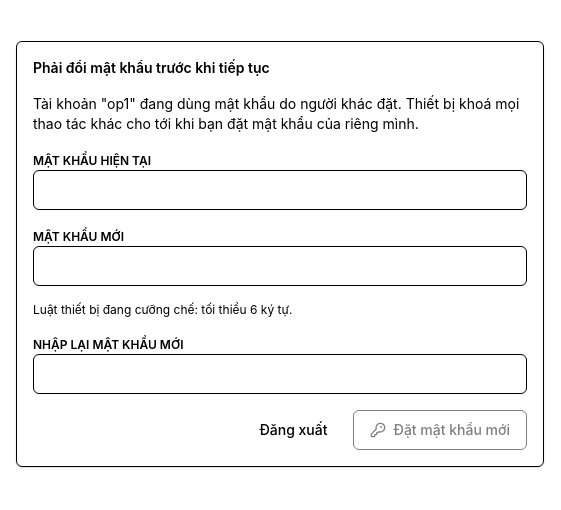
it: T57-3.17 — màn hình buộc đổi mật khẩu › lỗi từ backend hiện nguyên văn thay vì nuốt đi
In the password field labelled "Mật khẩu hiện tại": (280, 190) [33, 170, 527, 210], type "sai-mat-khau"
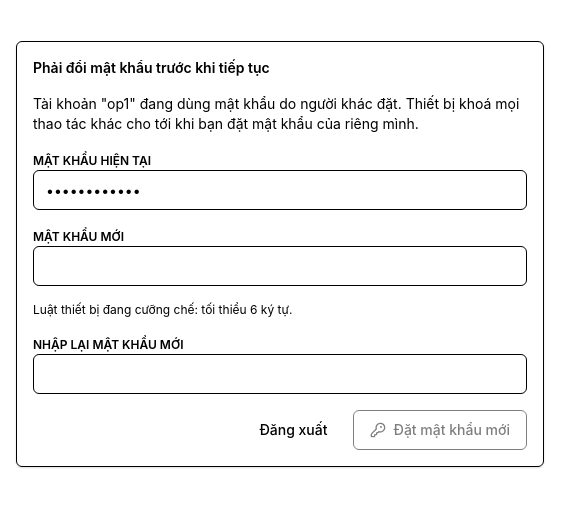
In the password field labelled "Mật khẩu mới": (280, 266) [33, 246, 527, 286], type "matkhau-moi-1"
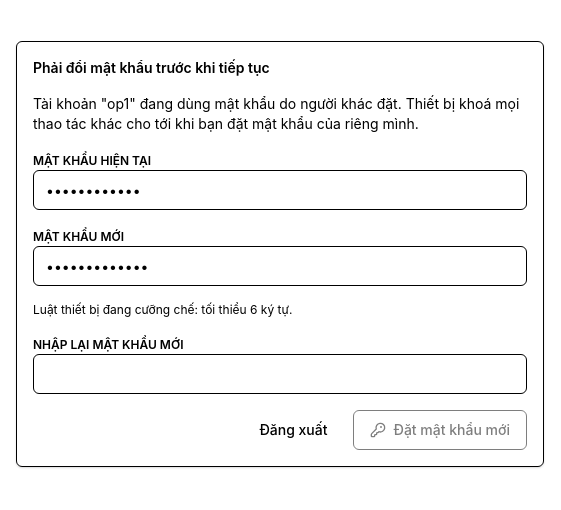
In the password field labelled "Nhập lại mật khẩu mới": (280, 374) [33, 354, 527, 394], type "matkhau-moi-1"
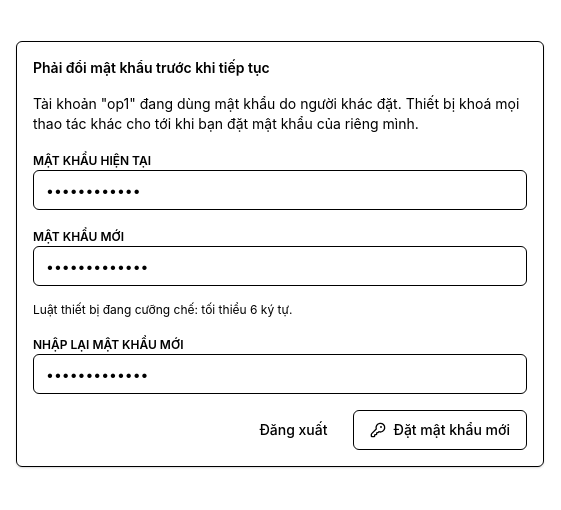
Click the button "Đặt mật khẩu mới": (440, 430) [352, 410, 527, 450]
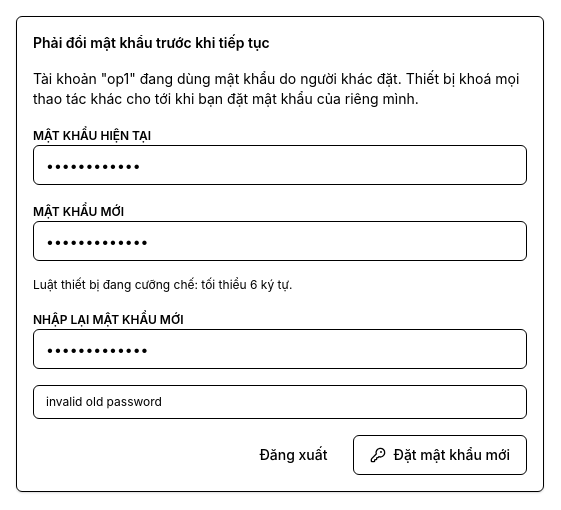
Check: the message reads "invalid old password", box [46, 394, 162, 409]
